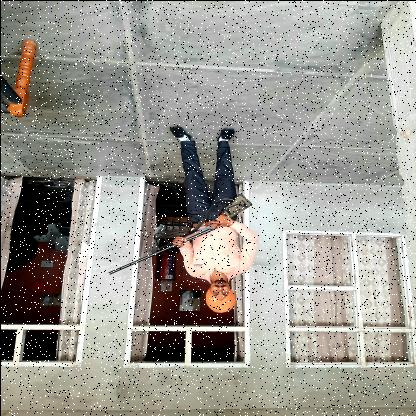rifle: (105, 190, 253, 276)
